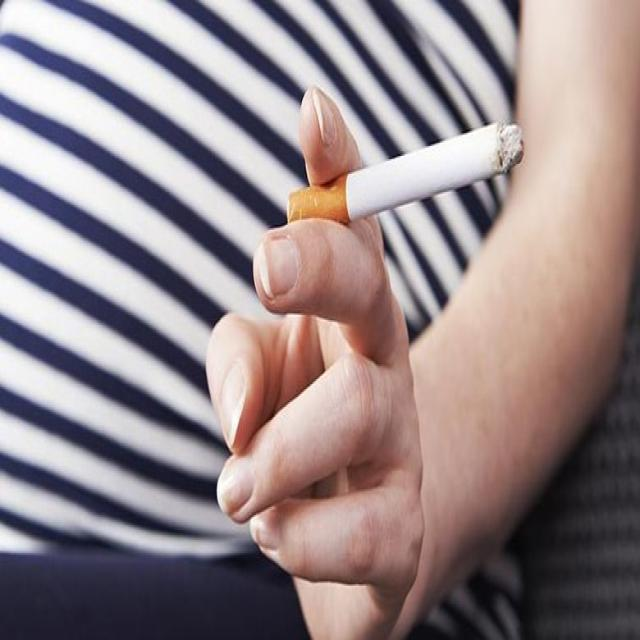rokok: (284, 118, 526, 238)
